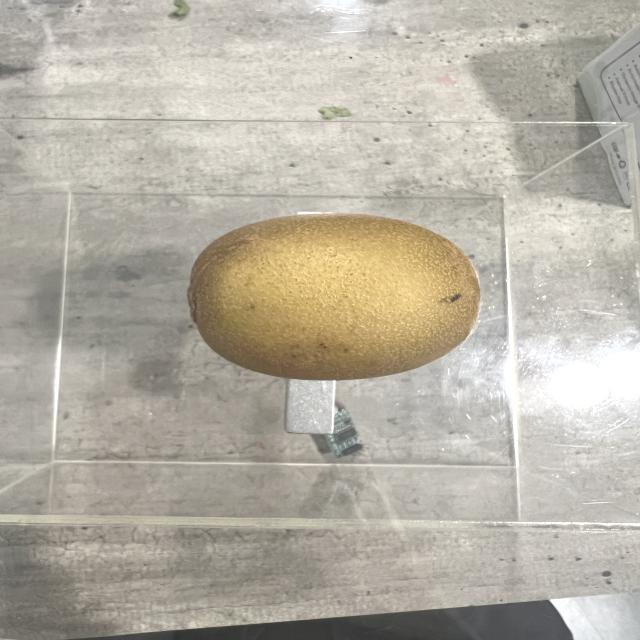kiwi: (185, 216, 484, 383)
